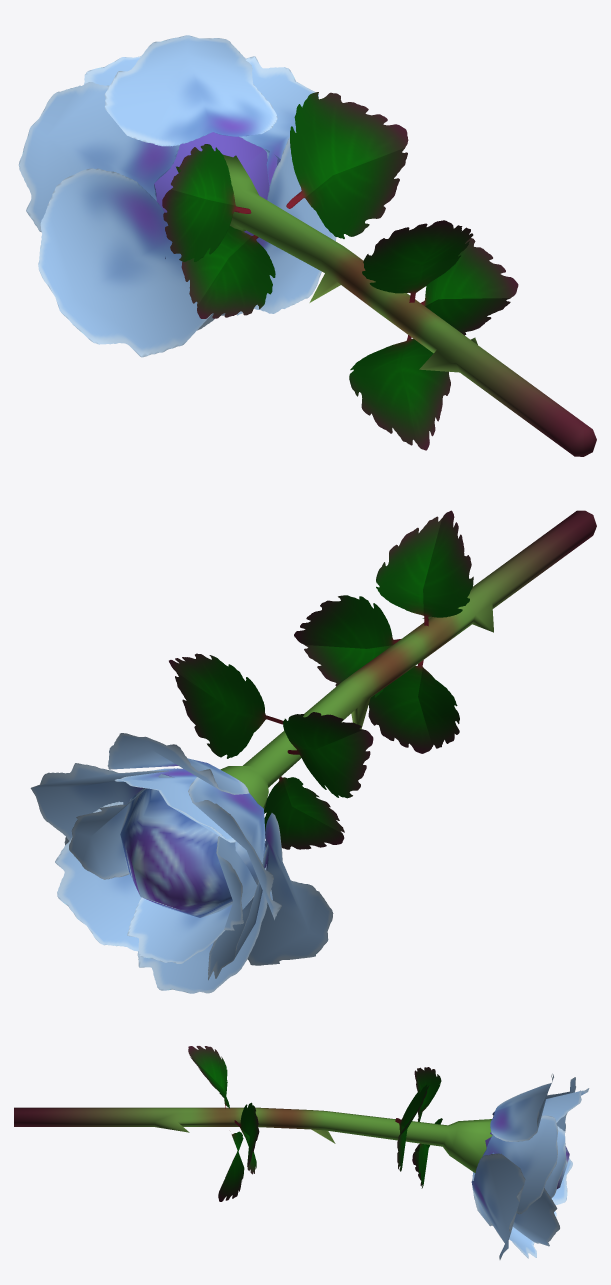
File: SM_Rose_PastellBlue_Open.fbx
3 views of the same model, one above another, from view 1: azimuth 30°, elevation 25°; view 2: azimuth 150°, elevation 25°; view 3: azimuth 270°, elevation 25° (orthographic). The views are drawn at different scales.
Parts seen in each view (by area): view 1: Rose_PastellBlue_Open; view 2: Rose_PastellBlue_Open; view 3: Rose_PastellBlue_Open.
Boxes of the visible parts, x1,y1,x2,y2 form: Rose_PastellBlue_Open: [18, 35, 596, 456]; Rose_PastellBlue_Open: [30, 510, 596, 993]; Rose_PastellBlue_Open: [14, 1046, 589, 1259].
Size of the model in its own units: 50.21 by 50.94 by 127.
